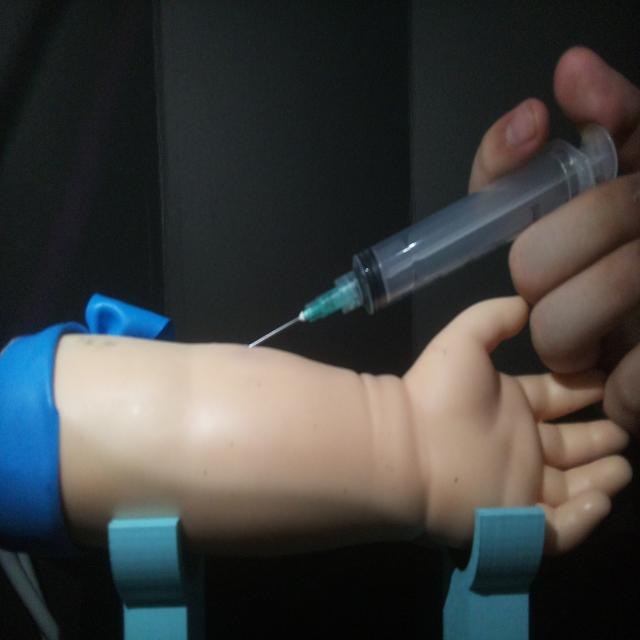25deg: (242, 119, 621, 353)
